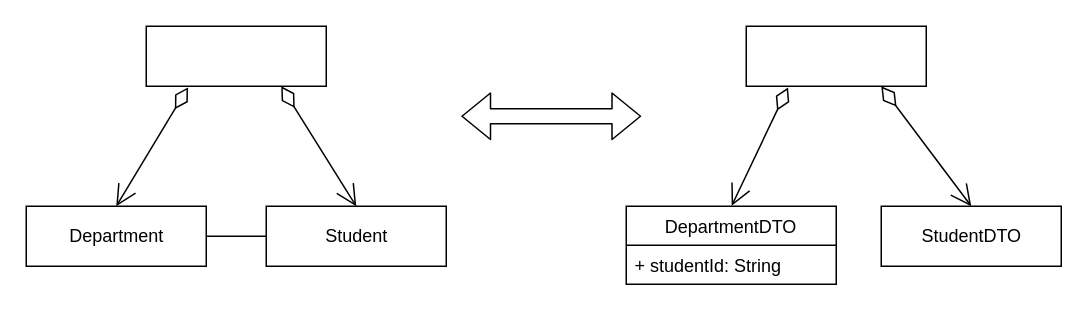
The diagram is 1088 pixels wide and 315 high, and some of its shapes have lost their labels. The box of each missing label's shape, as (x1, y1, x2, y2) in pixels:
University: (145, 25, 326, 86)
UniversityDTO: (745, 25, 926, 86)
